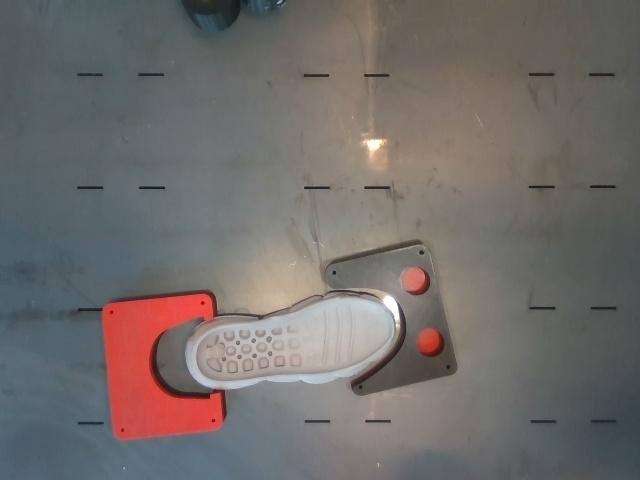shoes: (196, 297, 394, 381)
